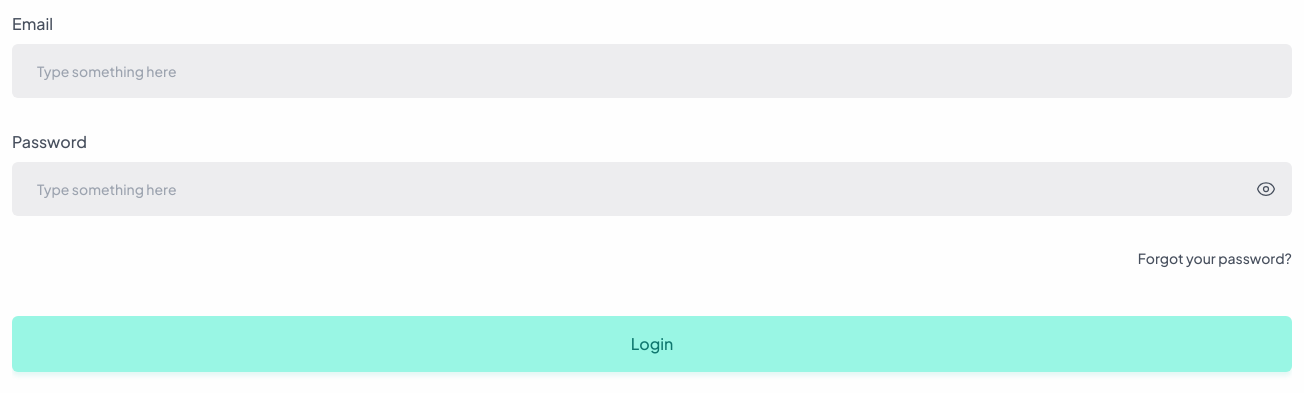
Test: Functionality › should render correct error when email and password inputs are empty
Click the button "Login" at (652, 344), box [12,316,1292,372]
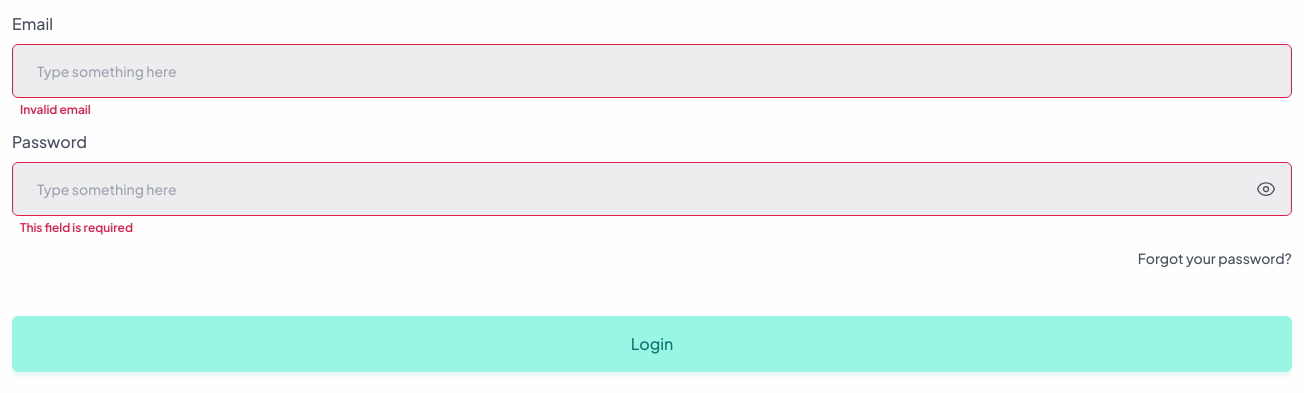
Expected: the text "Invalid email" is shown, [20,102,91,118]
Expected: the text "This field is required" is shown, [20,220,133,236]
